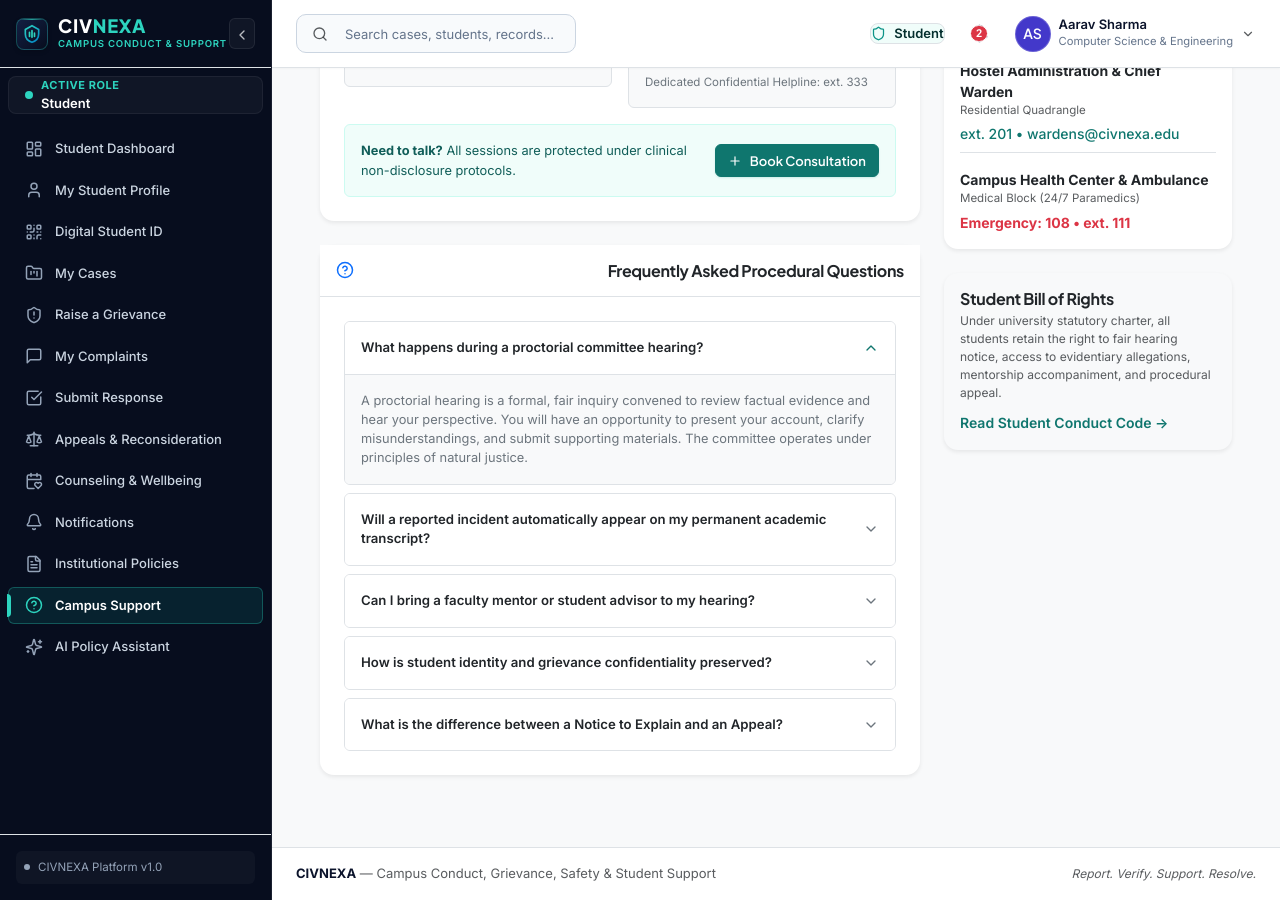
Scenario: CIVNEXA FE-5: Role-Specific Dashboards & Student Experience › 2. Student Portal Experience (/student/*) › renders Campus Support & Helpdesk with emergency helplines and FAQ accordion
The width and height of the screenshot is (1280, 900).
(page scrolled)
Check: the heading "Frequently Asked Procedural Questions" is shown, box top-left (608, 261), bottom-right (904, 280)
// Click FAQ item
Click the button "Can I bring a faculty mentor or student advisor to my hearing". click: {"x": 620, "y": 601}
box: top-left (345, 575), bottom-right (895, 627)
(page scrolled)
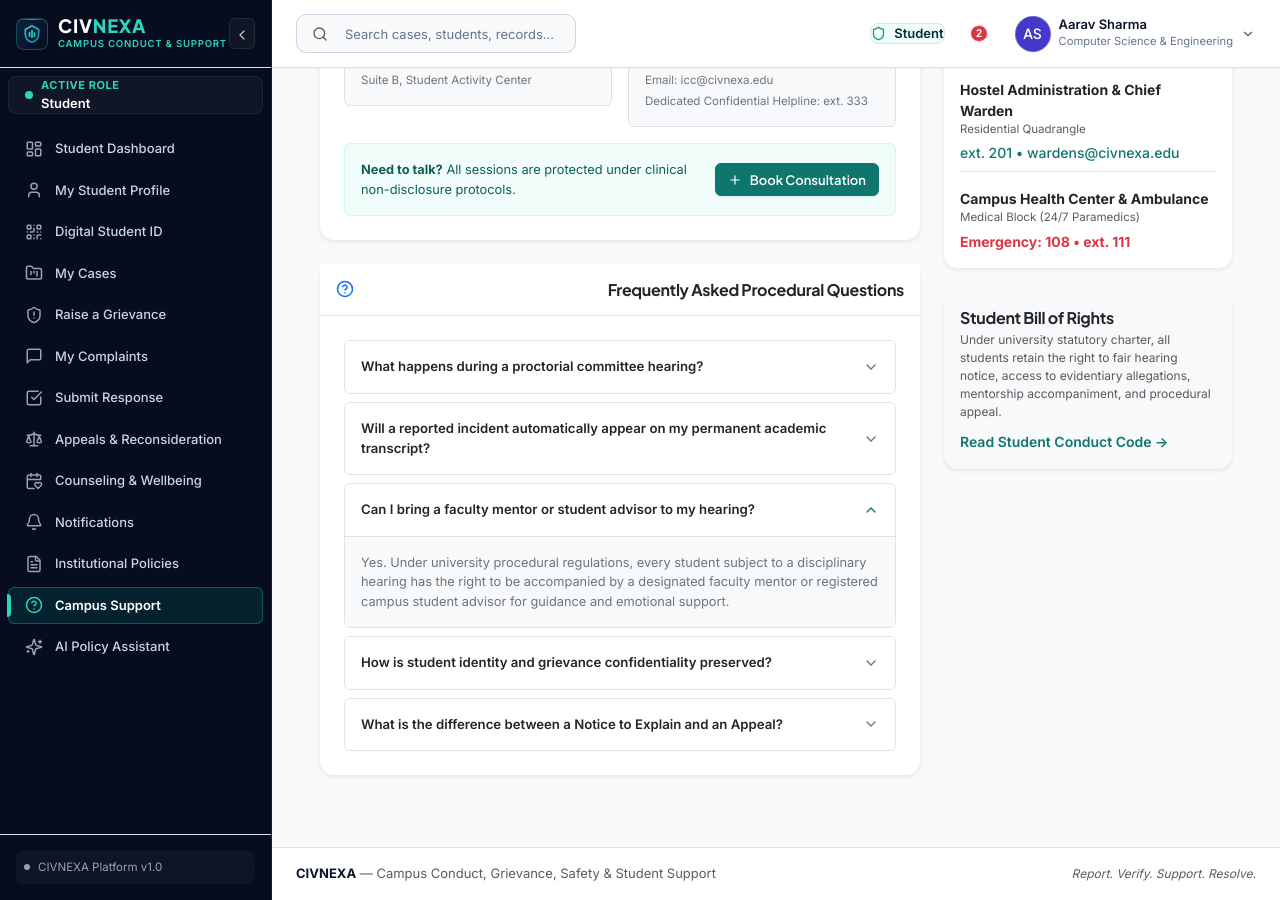
Check: the text "accompanied by a designated faculty mentor" is shown, box top-left (361, 555), bottom-right (878, 608)
